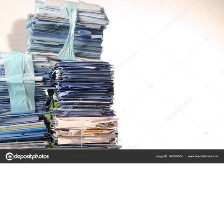book: (48, 52, 123, 151), (21, 0, 114, 65), (0, 49, 57, 151)
